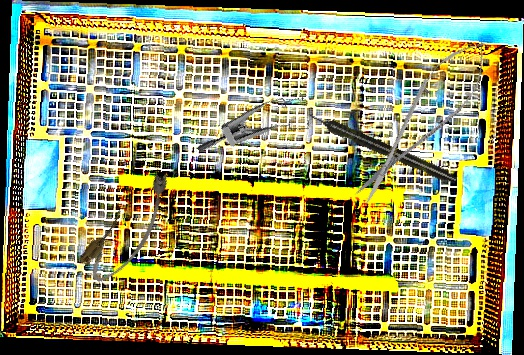Cannula: (74, 163, 189, 291)
Handpiece: (307, 109, 459, 187)
Micro Scissor: (340, 26, 504, 216)
Speculum: (195, 74, 322, 191)
